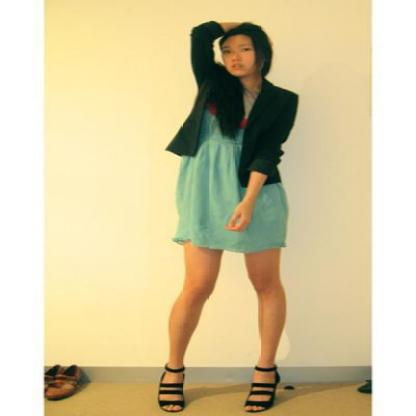dress: (173, 114, 288, 253)
jacket: (166, 21, 298, 192)
shoe: (159, 365, 280, 407)
